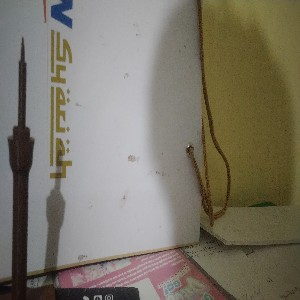solder: (6, 36, 36, 300)
